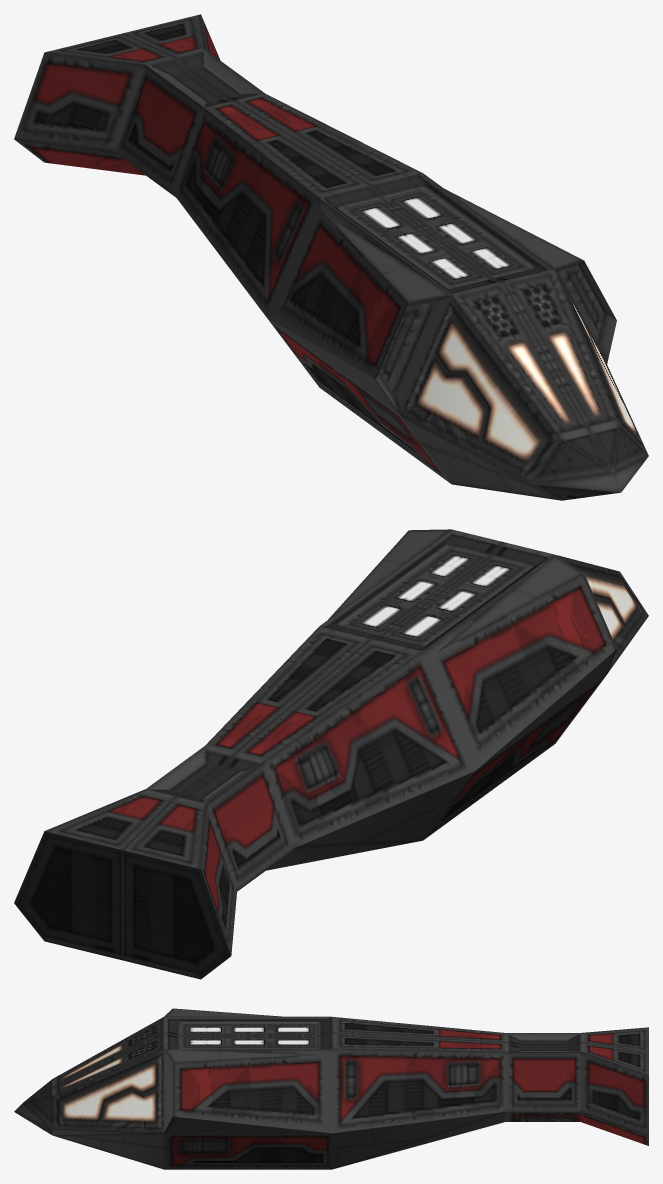
Rendered from BFP_Cockpit_01.FBX.
The picture shows the model from 3 angles, top to bottom: view 1: azimuth 30°, elevation 25°; view 2: azimuth 150°, elevation 25°; view 3: azimuth 270°, elevation 25°; orthographic projection. The views are drawn at different scales.
Visible parts, largest first — view 1: BFP_Cockpit_01; view 2: BFP_Cockpit_01; view 3: BFP_Cockpit_01.
Part boxes in pixels (x1,y1,x2,y2): BFP_Cockpit_01: [14, 14, 648, 500]; BFP_Cockpit_01: [14, 529, 648, 979]; BFP_Cockpit_01: [14, 1008, 648, 1169].
Size of the model in its own units: 186 by 139 by 665.
Materials: 1 (1 with a texture image).
